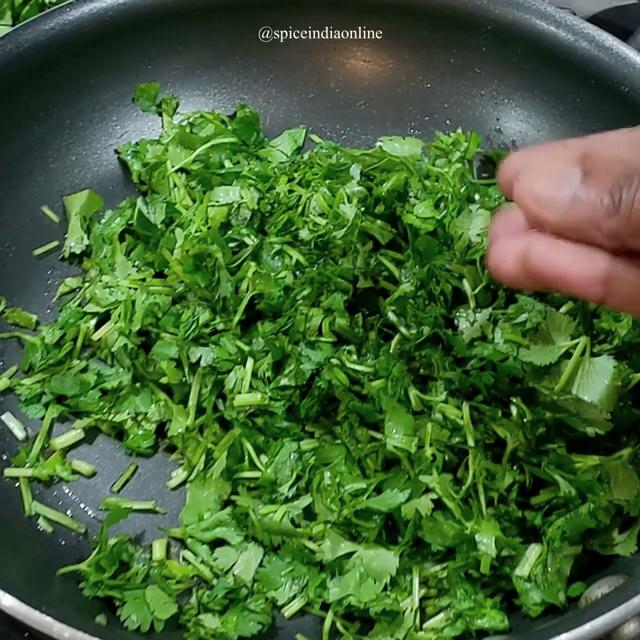cilantro: (158, 115, 488, 640)
